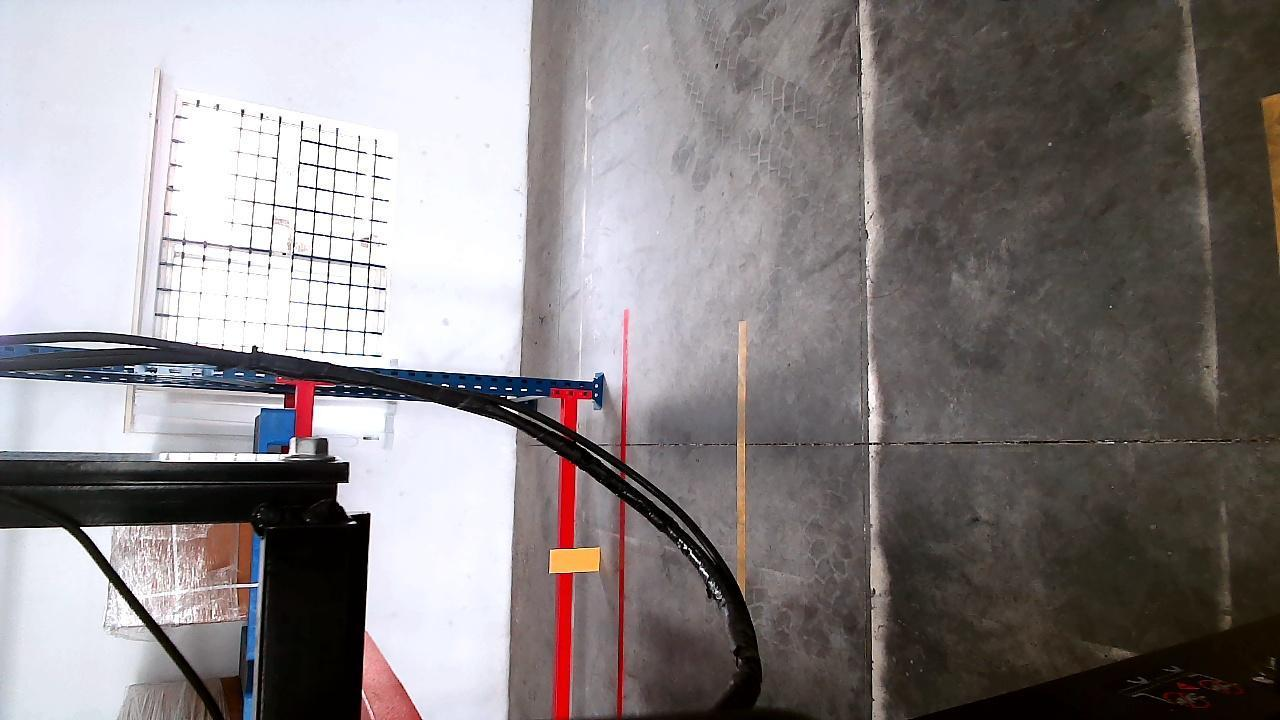h_rack: (557, 402, 578, 712)
orange_strip: (551, 547, 600, 572)
red_line: (616, 310, 629, 716)
yellow_line: (732, 325, 750, 591)
